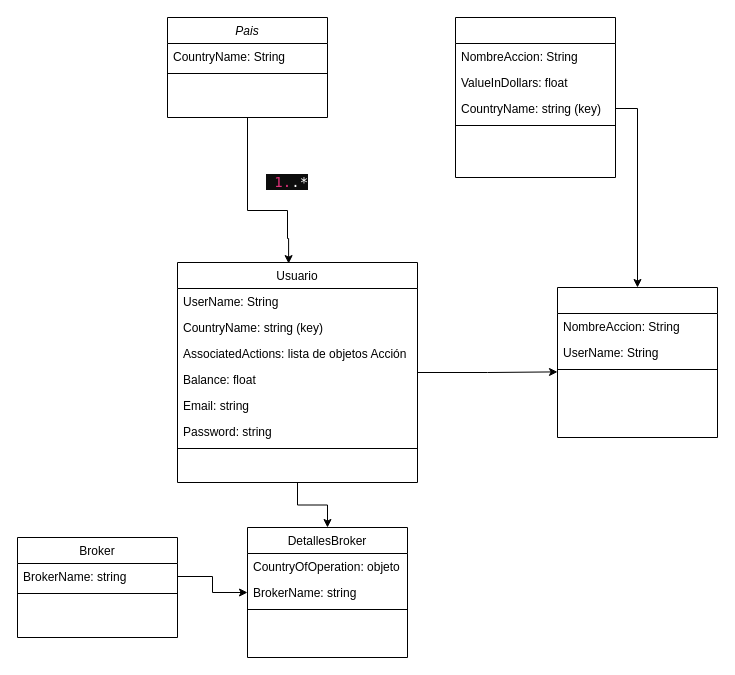
Some shapes in this 735 by 675 pixel diagram are drawn without their labels. Here are the shapes that lost their labels. From the top down, the box of each, then its label:
(454, 16, 616, 178): Acción
(556, 286, 718, 438): DetallesAccion
